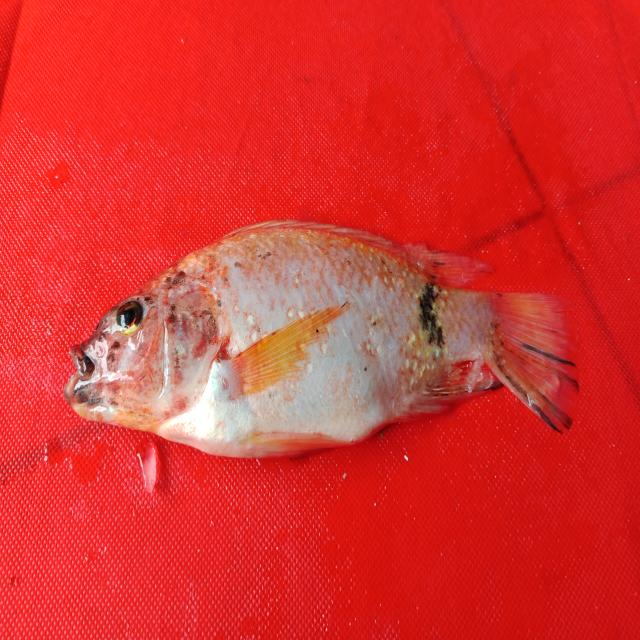ikan: (59, 200, 586, 492)
